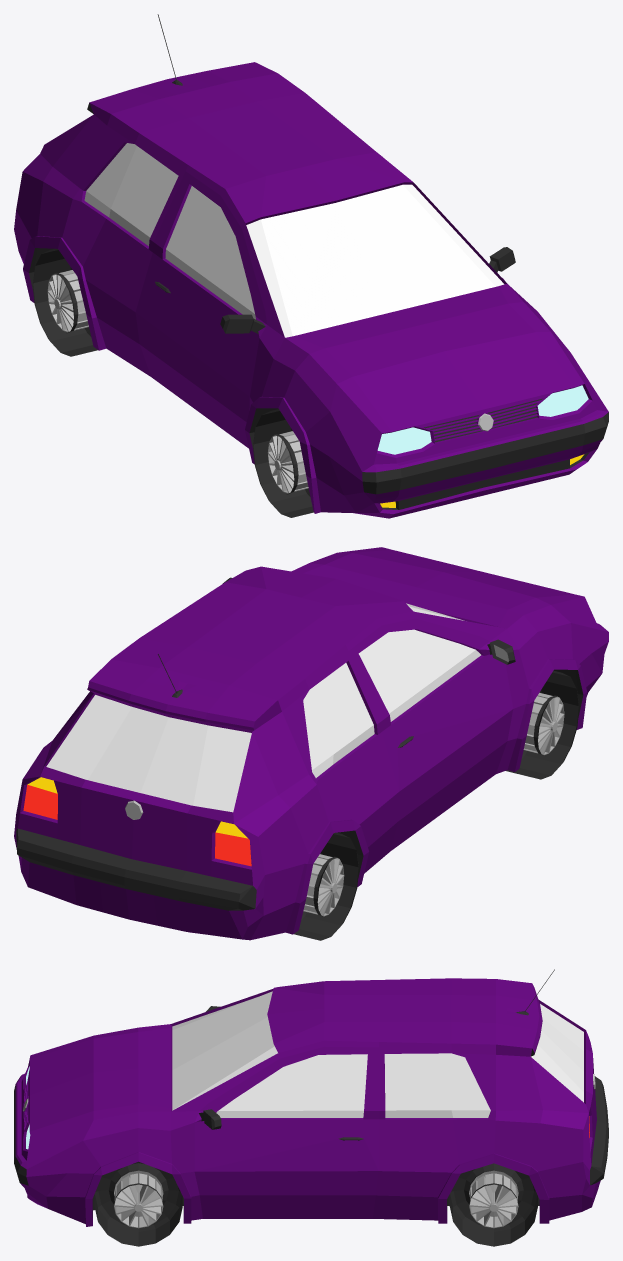
The model's file is vwcar.glb.
The picture shows the model from 3 angles, top to bottom: view 1: azimuth 30°, elevation 25°; view 2: azimuth 150°, elevation 25°; view 3: azimuth 270°, elevation 25°; orthographic projection. The views are drawn at different scales.
Parts seen in each view (by area): view 1: Cube; view 2: Cube; view 3: Cube.
Boxes of the visible parts, left/top/right/bottom form: Cube: left=14, top=14, right=608, bottom=518; Cube: left=14, top=547, right=608, bottom=940; Cube: left=14, top=969, right=608, bottom=1246.
Bounding box in the file's own units: 1.87 × 1.7 × 4.09.
